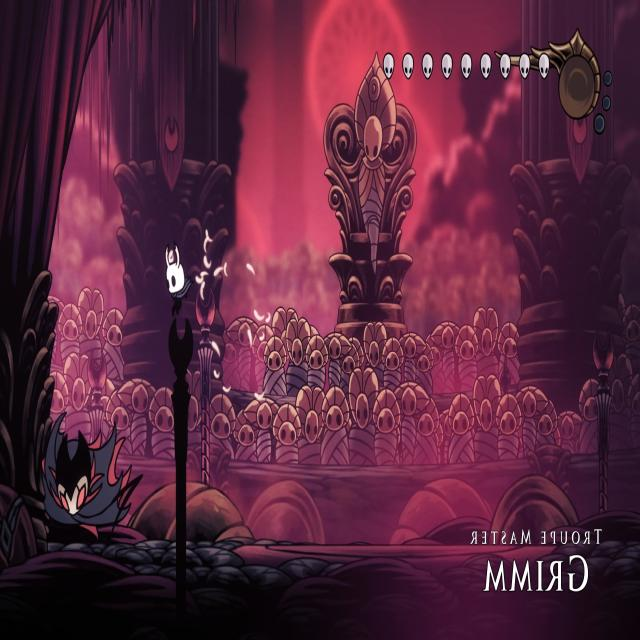Dive Dash: (24, 402, 146, 546)
Player: (162, 240, 196, 320)
